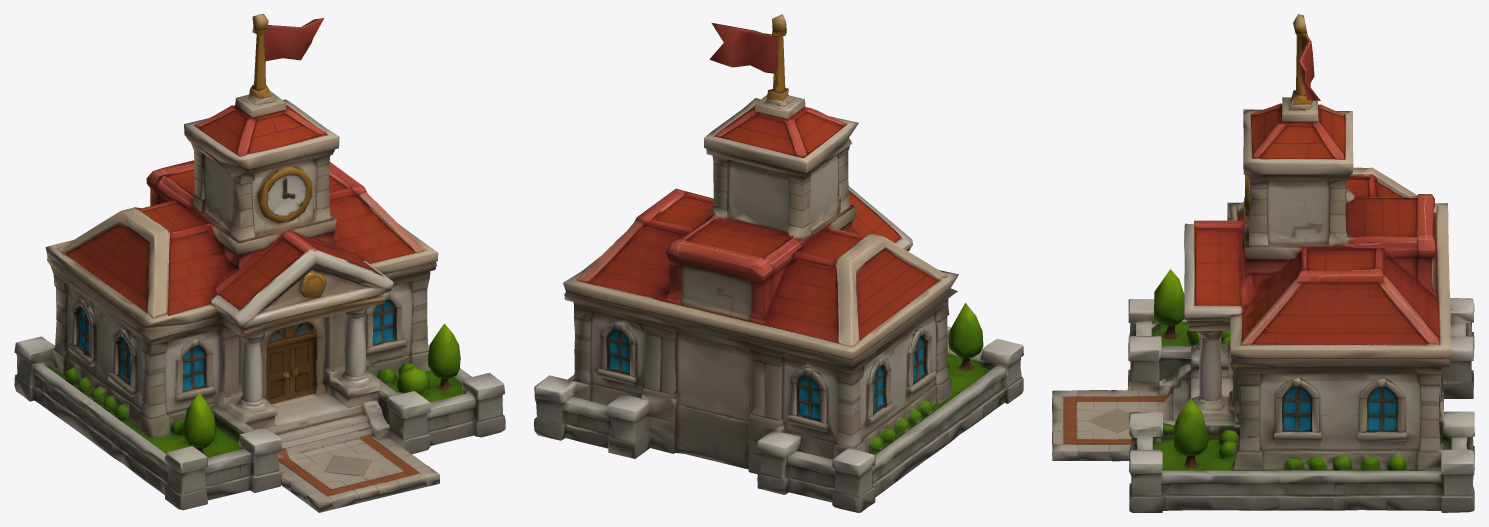
The model's file is town_hall.glb.
3 views of the same model, side by side, from view 1: azimuth 30°, elevation 25°; view 2: azimuth 150°, elevation 25°; view 3: azimuth 270°, elevation 25° (orthographic). The views are drawn at different scales.
Visible parts, largest first — view 1: tripo_node_598ea56c-8cdc-4617-bf8f-473b09710e6b; view 2: tripo_node_598ea56c-8cdc-4617-bf8f-473b09710e6b; view 3: tripo_node_598ea56c-8cdc-4617-bf8f-473b09710e6b.
Part boxes in pixels (bbox=[...]): tripo_node_598ea56c-8cdc-4617-bf8f-473b09710e6b: bbox=[14, 14, 505, 512]; tripo_node_598ea56c-8cdc-4617-bf8f-473b09710e6b: bbox=[534, 14, 1023, 512]; tripo_node_598ea56c-8cdc-4617-bf8f-473b09710e6b: bbox=[1052, 14, 1474, 512].
Size of the model in its own units: 0.8565 by 1 by 0.9217.
Materials: 1 (1 with a texture image).
